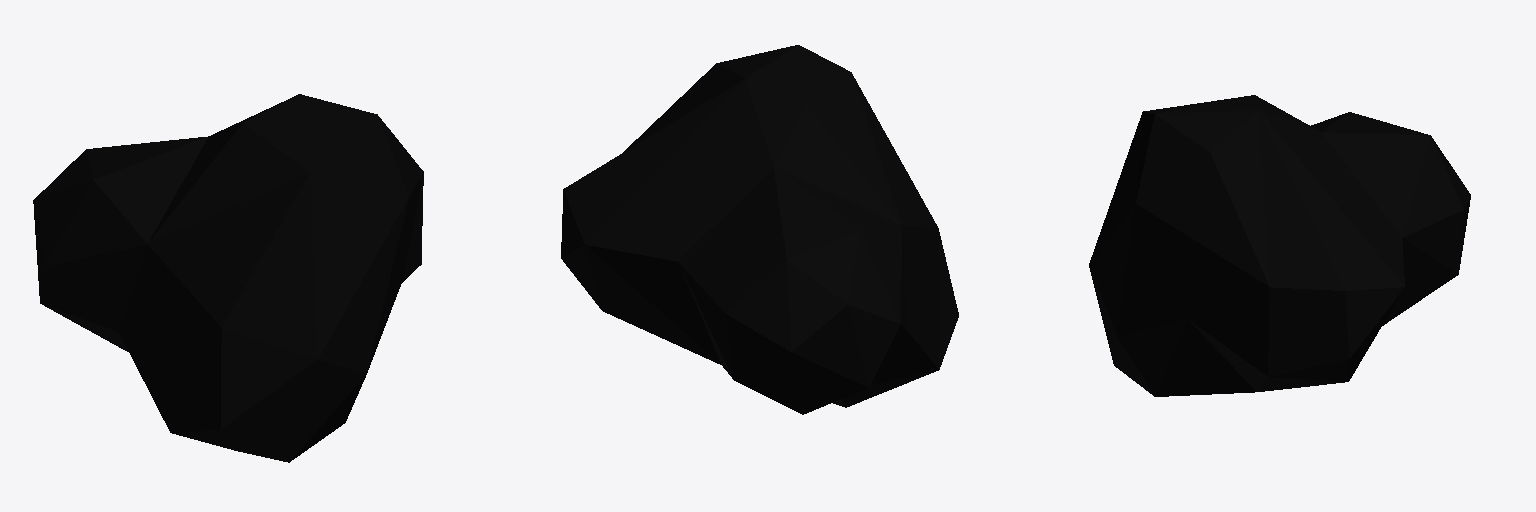
File: effect_smoke.obj
The picture shows the model from 3 angles: view 1: azimuth 30°, elevation 25°; view 2: azimuth 150°, elevation 25°; view 3: azimuth 270°, elevation 25°; orthographic projection.
Parts seen in each view (by area): view 1: effect_smoke_Mesh.006; view 2: effect_smoke_Mesh.006; view 3: effect_smoke_Mesh.006.
Part boxes in pixels (bbox=[...]): effect_smoke_Mesh.006: bbox=[33, 94, 423, 462]; effect_smoke_Mesh.006: bbox=[561, 45, 958, 414]; effect_smoke_Mesh.006: bbox=[1089, 95, 1470, 396].
Bounding box in the file's own units: 17.4 × 15.6 × 16.72.